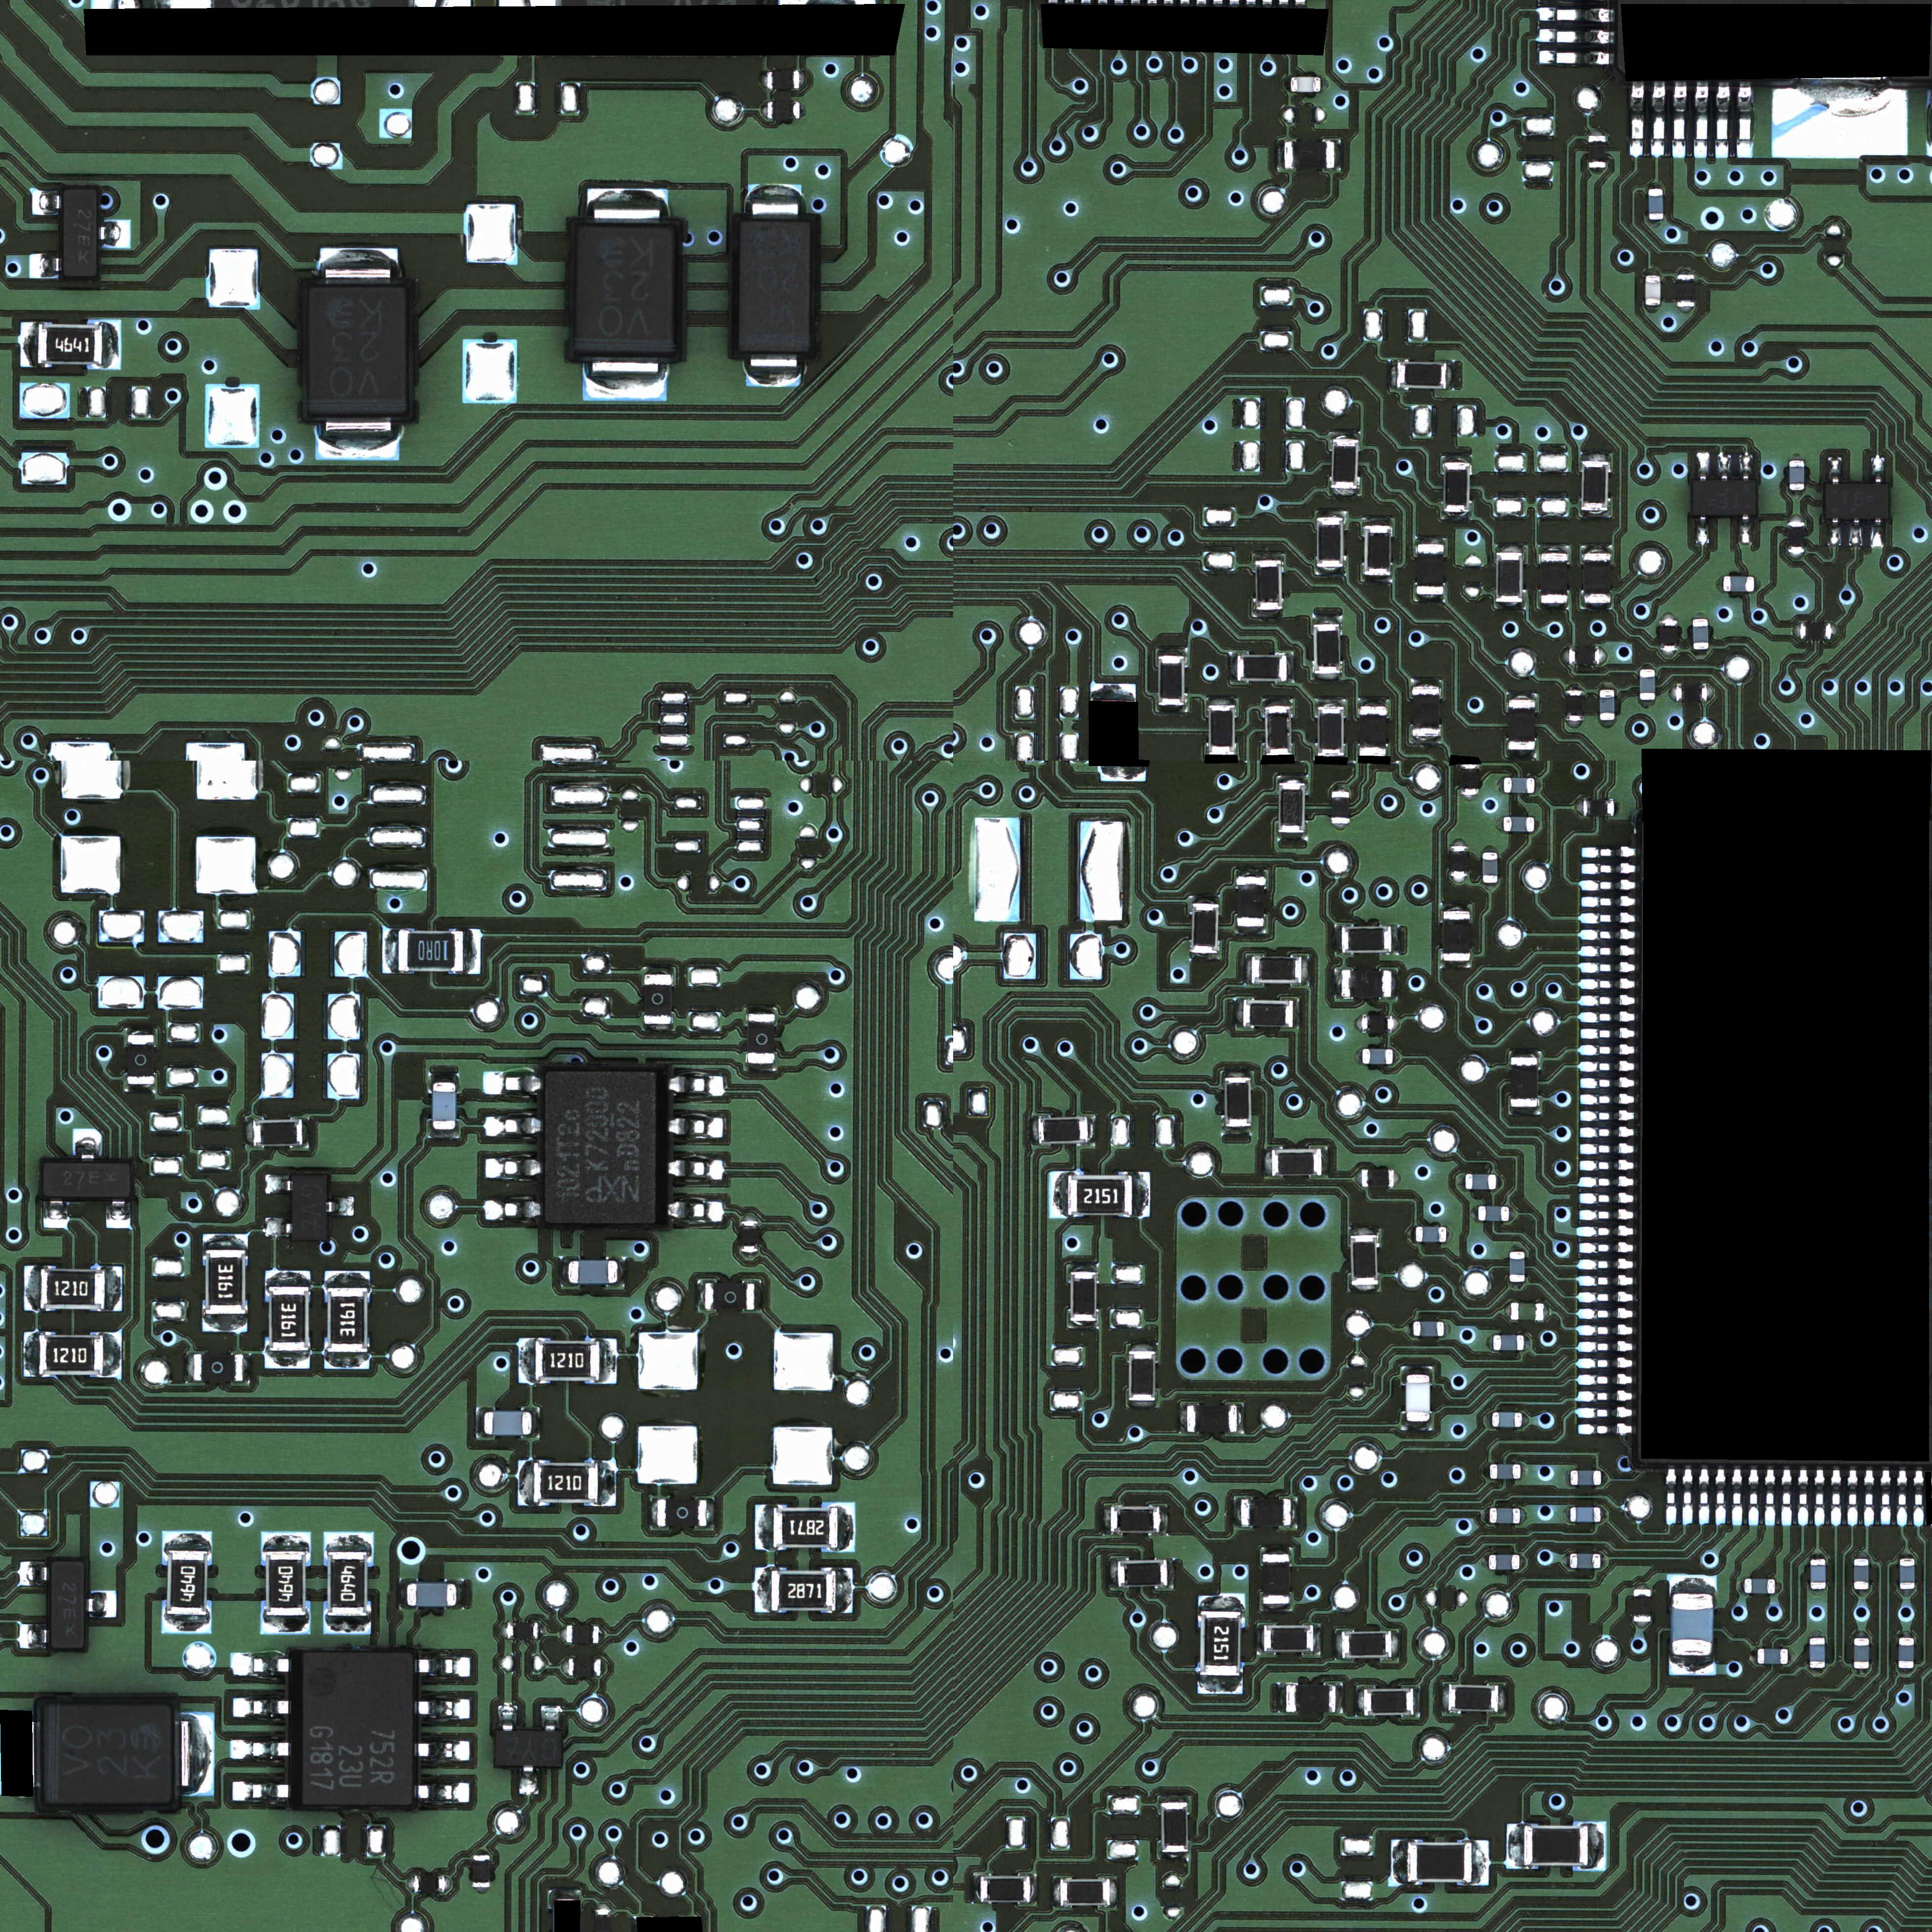Package: (301, 1652, 414, 1806), (545, 1070, 656, 1224), (306, 285, 409, 416), (41, 1704, 173, 1805), (575, 225, 676, 356), (738, 219, 810, 354), (41, 1161, 133, 1200), (60, 188, 99, 280), (48, 1560, 87, 1651), (166, 1550, 209, 1615), (536, 1339, 600, 1382), (534, 1461, 598, 1504), (1200, 1612, 1242, 1675), (398, 931, 464, 971), (1407, 1842, 1472, 1882), (771, 1569, 837, 1610), (41, 1269, 106, 1309), (1523, 1826, 1589, 1867), (39, 1334, 104, 1375), (37, 324, 103, 364), (205, 1249, 246, 1315), (327, 1288, 368, 1352), (1069, 1175, 1132, 1215), (773, 1507, 837, 1548), (265, 1552, 306, 1615), (269, 1286, 308, 1352), (329, 1552, 368, 1615), (1672, 1594, 1713, 1654), (494, 1730, 563, 1766), (1691, 479, 1757, 515), (1824, 483, 1890, 518), (292, 1173, 327, 1238), (1240, 1499, 1292, 1527), (747, 1014, 775, 1063), (1341, 970, 1391, 998), (644, 975, 672, 1024), (1412, 686, 1440, 736), (1286, 1684, 1336, 1713), (1539, 554, 1568, 603), (1442, 911, 1470, 961), (1279, 782, 1306, 833), (1509, 699, 1536, 750), (1237, 878, 1265, 925), (195, 1353, 242, 1382), (1060, 1879, 1109, 1905), (127, 1035, 154, 1085), (253, 1120, 303, 1146), (1511, 1058, 1537, 1108), (1444, 462, 1470, 511), (1284, 142, 1334, 168), (1129, 1352, 1155, 1401), (1263, 1553, 1290, 1603), (1332, 439, 1359, 488), (1187, 1405, 1237, 1431), (1251, 957, 1300, 984), (1417, 545, 1444, 594), (1361, 706, 1387, 755), (1583, 554, 1610, 603), (1364, 525, 1391, 575), (1208, 704, 1233, 755), (706, 1283, 754, 1309), (1582, 462, 1608, 510), (1343, 1631, 1391, 1658), (658, 1500, 706, 1527), (1039, 1118, 1088, 1143), (1224, 1077, 1249, 1127), (1449, 1686, 1499, 1711), (568, 1260, 617, 1284), (1162, 1803, 1187, 1852), (1272, 1150, 1322, 1175), (980, 1877, 1030, 1902), (1497, 552, 1522, 602), (1364, 1690, 1414, 1714), (1352, 1235, 1376, 1284), (1118, 1560, 1168, 1585), (1237, 656, 1286, 681), (1244, 1001, 1293, 1026), (1315, 625, 1339, 674), (1159, 656, 1184, 706), (1318, 706, 1343, 755), (1192, 904, 1217, 954), (1265, 1626, 1313, 1651), (1398, 363, 1445, 387), (1256, 561, 1281, 609), (1343, 927, 1391, 952), (1111, 1507, 1159, 1532), (1070, 1272, 1095, 1320), (1318, 518, 1343, 566), (407, 1583, 456, 1606), (1267, 706, 1290, 755), (1407, 1375, 1430, 1422), (433, 1083, 456, 1129), (485, 1412, 531, 1435), (1330, 791, 1350, 823), (472, 1854, 490, 1888), (1633, 1589, 1651, 1622), (766, 71, 800, 88), (1361, 1014, 1394, 1031), (1589, 136, 1606, 168), (566, 1626, 598, 1644), (1362, 1169, 1394, 1187), (568, 1658, 600, 1675), (1677, 274, 1695, 306), (1660, 619, 1677, 651), (1511, 1302, 1543, 1320), (414, 1875, 446, 1893), (768, 101, 800, 119), (1675, 683, 1707, 701), (1757, 1649, 1789, 1665), (1465, 1173, 1497, 1189), (741, 1221, 757, 1253), (1799, 623, 1831, 639), (1898, 1637, 1914, 1668), (1509, 1251, 1525, 1283), (1451, 846, 1467, 878), (1789, 522, 1805, 554), (506, 1622, 538, 1638), (1415, 1226, 1445, 1242), (1483, 853, 1499, 883), (1693, 619, 1709, 649), (1810, 1559, 1826, 1589), (1566, 690, 1582, 720), (1723, 577, 1753, 593), (1810, 1638, 1826, 1668), (1490, 1463, 1520, 1479), (1491, 1412, 1522, 1428), (1789, 460, 1805, 490), (1504, 777, 1534, 793), (1490, 1507, 1520, 1523), (1645, 276, 1661, 306), (1744, 1578, 1775, 1594), (1461, 764, 1477, 794), (1583, 800, 1614, 816), (1640, 669, 1654, 701), (1493, 1336, 1525, 1350), (1569, 1553, 1601, 1568), (1292, 76, 1320, 92), (1854, 1638, 1868, 1668), (1649, 189, 1663, 219), (1854, 1559, 1868, 1589), (1571, 1507, 1601, 1522), (1362, 1049, 1392, 1063), (1479, 1207, 1509, 1221), (1571, 1470, 1601, 1484), (1414, 1322, 1444, 1336), (1599, 690, 1614, 720), (1504, 817, 1534, 832), (1490, 1555, 1520, 1569), (1900, 1559, 1914, 1589)
Solder: (1773, 87, 1907, 159), (315, 416, 400, 460), (584, 356, 667, 400), (173, 1711, 214, 1796), (587, 188, 669, 225), (318, 248, 398, 285), (748, 184, 801, 219), (747, 356, 801, 386), (230, 1652, 288, 1677), (483, 1070, 541, 1095), (667, 1198, 724, 1223), (230, 1737, 288, 1760), (414, 1739, 471, 1762), (669, 1157, 725, 1180), (232, 1780, 288, 1803), (483, 1115, 540, 1138), (485, 1198, 541, 1221), (234, 1695, 288, 1718), (669, 1115, 724, 1138), (669, 1074, 724, 1097), (412, 1782, 469, 1803), (414, 1698, 471, 1720), (485, 1157, 541, 1178), (1537, 7, 1615, 21), (1537, 28, 1615, 42), (260, 1530, 311, 1552), (1539, 51, 1615, 65), (1651, 81, 1665, 157), (1672, 81, 1686, 157), (1695, 81, 1709, 157), (1737, 81, 1752, 157), (416, 1658, 471, 1677), (1629, 81, 1644, 156), (1716, 83, 1730, 157), (99, 218, 131, 249), (260, 1615, 311, 1635), (161, 1615, 212, 1635), (324, 1532, 375, 1552), (103, 318, 122, 370), (161, 1530, 212, 1550), (837, 1502, 856, 1553), (322, 1615, 372, 1635), (1668, 1656, 1716, 1675), (1047, 1171, 1067, 1219), (73, 1129, 103, 1159), (1198, 1675, 1242, 1695), (1589, 1822, 1606, 1870), (464, 929, 481, 975), (1132, 1171, 1150, 1217), (1472, 1840, 1490, 1886), (104, 1332, 122, 1378), (755, 1504, 773, 1550), (1670, 1575, 1716, 1592), (518, 1338, 536, 1384), (87, 1591, 117, 1617), (28, 253, 60, 278), (203, 1315, 248, 1332), (326, 1270, 370, 1288), (600, 1339, 617, 1384), (1092, 683, 1136, 701), (265, 1352, 310, 1369), (1506, 1824, 1523, 1868), (19, 322, 37, 366), (1099, 766, 1146, 782), (1198, 1594, 1246, 1610), (19, 1560, 48, 1587), (19, 1622, 48, 1649), (265, 1270, 311, 1286), (324, 1353, 370, 1369), (25, 1265, 41, 1311), (837, 1568, 853, 1614), (755, 1568, 771, 1614), (1746, 1467, 1759, 1525), (1780, 1467, 1792, 1525), (203, 1233, 248, 1249), (600, 1461, 616, 1506), (1391, 1840, 1407, 1884), (106, 1267, 122, 1311), (23, 1332, 39, 1376), (382, 929, 398, 973), (32, 189, 60, 214), (106, 1200, 131, 1228), (44, 1200, 67, 1228), (518, 1460, 533, 1506), (1665, 1465, 1675, 1525), (1681, 1465, 1691, 1525), (1698, 1465, 1709, 1525), (1714, 1465, 1725, 1525), (1730, 1467, 1741, 1525), (1764, 1467, 1775, 1525), (1798, 1467, 1808, 1525), (1813, 1467, 1824, 1525), (1831, 1467, 1842, 1525), (1847, 1467, 1858, 1525), (1863, 1468, 1874, 1527), (1879, 1468, 1890, 1527), (1897, 1468, 1907, 1527), (1913, 1468, 1923, 1527), (1576, 1407, 1635, 1417), (1576, 1375, 1635, 1385), (1576, 1309, 1635, 1320), (1576, 1325, 1635, 1336), (1576, 1341, 1635, 1352), (1576, 1292, 1635, 1302), (1578, 1276, 1637, 1286), (1578, 1210, 1637, 1221), (1578, 1127, 1637, 1138), (1578, 1077, 1637, 1088), (1578, 1093, 1637, 1104), (1578, 1143, 1637, 1154), (1578, 1177, 1637, 1187), (1580, 913, 1638, 924), (1580, 879, 1638, 890), (1580, 929, 1638, 939), (1580, 945, 1638, 955), (1580, 978, 1638, 989), (1580, 847, 1638, 858), (1578, 1260, 1635, 1270), (1578, 1161, 1635, 1171), (1582, 895, 1638, 906), (1580, 1028, 1637, 1039), (1582, 863, 1638, 874), (518, 1766, 538, 1796), (264, 1217, 292, 1237), (327, 1196, 354, 1215), (1576, 1424, 1635, 1433), (1576, 1392, 1635, 1401), (1576, 1359, 1635, 1368), (1578, 1244, 1637, 1253), (1578, 1046, 1637, 1054), (1578, 1062, 1637, 1070), (1578, 1111, 1637, 1120), (1580, 962, 1638, 971), (1580, 1012, 1638, 1021), (1578, 1194, 1635, 1203), (1578, 1226, 1635, 1235), (1580, 996, 1637, 1005), (265, 1175, 290, 1194), (541, 1706, 561, 1730), (1695, 517, 1711, 547), (1737, 515, 1753, 545), (499, 1704, 517, 1730), (1695, 453, 1711, 479), (1828, 456, 1842, 485), (1718, 453, 1732, 479), (1849, 520, 1863, 547), (1872, 455, 1884, 483), (1870, 520, 1882, 547), (1739, 453, 1752, 479), (1829, 518, 1842, 545), (550, 1888, 580, 1898), (430, 1129, 458, 1139), (430, 1072, 458, 1083), (1410, 678, 1442, 686), (1235, 925, 1267, 934), (1348, 1226, 1380, 1235), (1401, 1366, 1433, 1375), (1159, 1794, 1191, 1803), (697, 1281, 706, 1311), (754, 1281, 763, 1311), (1315, 566, 1345, 575), (1362, 575, 1392, 584), (1362, 517, 1392, 525), (1440, 511, 1470, 520), (1313, 616, 1343, 625), (1507, 690, 1537, 699), (1189, 895, 1219, 904), (1235, 998, 1244, 1028), (1401, 1422, 1431, 1431), (1109, 1559, 1118, 1589), (1102, 1504, 1111, 1534), (1069, 1320, 1099, 1329), (186, 1353, 195, 1382), (1334, 140, 1343, 168), (1412, 736, 1440, 745), (1286, 653, 1295, 681), (1391, 925, 1399, 954), (1030, 1116, 1039, 1145), (1256, 1626, 1265, 1654), (1261, 1545, 1290, 1553), (1159, 1506, 1168, 1534), (1109, 1879, 1118, 1907), (1070, 1263, 1099, 1272), (127, 1026, 154, 1035), (1445, 363, 1454, 389), (1582, 453, 1608, 462), (1263, 1150, 1272, 1177), (1391, 1631, 1399, 1658), (1129, 1343, 1155, 1352), (651, 1497, 658, 1529), (1253, 554, 1284, 561), (531, 1410, 540, 1435), (476, 1410, 485, 1435), (1389, 363, 1398, 387), (303, 1118, 310, 1148), (1330, 432, 1361, 439), (1330, 488, 1361, 495), (1316, 511, 1346, 518), (1415, 594, 1445, 602), (1157, 649, 1187, 656), (1253, 610, 1283, 617), (1440, 961, 1470, 968), (1237, 869, 1267, 876), (1189, 954, 1219, 961), (1300, 955, 1307, 985), (1244, 955, 1251, 985), (1293, 998, 1300, 1028), (1322, 1146, 1329, 1177), (1088, 1116, 1095, 1146), (1350, 1284, 1380, 1292), (1509, 1051, 1539, 1058), (1509, 1108, 1539, 1115), (1334, 1629, 1341, 1660), (1336, 1683, 1343, 1713), (1357, 1686, 1364, 1716), (1414, 1686, 1421, 1716), (1442, 1684, 1449, 1714), (1168, 1559, 1175, 1589), (973, 1874, 980, 1904), (1237, 1403, 1244, 1433), (244, 1353, 251, 1382), (706, 1499, 713, 1527), (747, 1063, 775, 1070), (747, 1007, 775, 1014), (644, 1024, 672, 1031), (644, 968, 672, 975), (126, 1085, 154, 1092), (1277, 142, 1284, 170), (1539, 603, 1568, 610), (1415, 536, 1444, 543), (1316, 699, 1345, 706), (1265, 699, 1293, 706), (1359, 699, 1387, 706), (1157, 706, 1185, 713), (1334, 925, 1341, 954), (1334, 970, 1341, 998), (1223, 1127, 1251, 1134), (1315, 1624, 1322, 1652), (1279, 1684, 1286, 1713), (1499, 1684, 1506, 1713), (1159, 1852, 1187, 1859), (1053, 1879, 1060, 1907), (1031, 1875, 1039, 1904), (1180, 1405, 1187, 1433), (561, 1260, 568, 1286), (1583, 547, 1610, 554), (1541, 547, 1568, 554), (1497, 602, 1523, 609), (1313, 674, 1339, 681), (1279, 833, 1306, 840), (1279, 775, 1306, 782), (1224, 1070, 1251, 1077), (1263, 1603, 1290, 1610), (1129, 1401, 1155, 1408), (617, 1260, 625, 1284), (246, 1120, 253, 1145), (1497, 545, 1522, 552), (1330, 823, 1350, 832), (456, 1583, 464, 1606), (400, 1582, 407, 1605), (1580, 511, 1610, 517), (1582, 603, 1612, 609), (1231, 653, 1237, 683), (1292, 1499, 1297, 1529), (1235, 1497, 1240, 1527), (1614, 800, 1622, 817), (1575, 800, 1583, 817), (1442, 456, 1470, 462), (1392, 970, 1398, 998), (1320, 76, 1329, 92), (1283, 76, 1292, 92), (1753, 577, 1762, 593), (1599, 720, 1615, 729), (1208, 699, 1235, 704), (1444, 906, 1470, 911), (1562, 1507, 1571, 1523), (1562, 1468, 1571, 1484), (1330, 784, 1350, 791), (800, 101, 807, 119), (740, 1214, 757, 1221), (472, 1888, 490, 1895), (1677, 306, 1695, 313), (1649, 219, 1663, 228), (1589, 168, 1606, 175), (1790, 490, 1805, 499), (1787, 552, 1805, 559), (1660, 651, 1677, 658), (1668, 683, 1675, 701), (1638, 701, 1656, 708), (1566, 722, 1583, 729), (1353, 1169, 1361, 1187), (1394, 1169, 1401, 1187), (1810, 1629, 1824, 1638), (1854, 1629, 1868, 1638), (741, 1253, 757, 1260), (538, 1622, 545, 1638), (499, 1622, 506, 1638), (559, 1626, 566, 1642), (598, 1626, 605, 1642), (561, 1660, 568, 1675), (407, 1875, 414, 1891), (1645, 269, 1661, 276), (1677, 267, 1693, 274), (1647, 182, 1663, 189), (1589, 129, 1605, 136), (1789, 453, 1805, 460), (1789, 515, 1805, 522), (1792, 623, 1799, 639), (1831, 623, 1838, 639), (1691, 649, 1707, 656), (1691, 612, 1707, 619), (1661, 612, 1677, 619), (1707, 685, 1714, 701), (1599, 683, 1615, 690), (1566, 683, 1582, 690), (1497, 777, 1504, 793), (1483, 883, 1499, 890), (1461, 794, 1477, 801), (1353, 1016, 1361, 1031), (1392, 1049, 1399, 1065), (1445, 1226, 1453, 1242), (1458, 1173, 1465, 1189), (1470, 1205, 1477, 1221), (1509, 1244, 1525, 1251), (1509, 1283, 1525, 1290), (1504, 1304, 1511, 1320), (1543, 1304, 1550, 1320), (1486, 1334, 1493, 1350), (1522, 1412, 1529, 1428), (1483, 1463, 1490, 1479), (1520, 1507, 1527, 1523), (1483, 1507, 1490, 1523), (1601, 1507, 1608, 1523), (1601, 1553, 1608, 1569), (1562, 1553, 1569, 1569), (1810, 1589, 1826, 1596), (1645, 306, 1660, 313), (1716, 577, 1723, 591), (1497, 817, 1504, 832), (1534, 817, 1541, 832), (1453, 839, 1467, 846), (1355, 1049, 1362, 1063), (1509, 1207, 1516, 1221), (1444, 1322, 1451, 1336), (1407, 1322, 1414, 1336), (1601, 1470, 1608, 1484), (1520, 1555, 1527, 1569), (1789, 1649, 1796, 1663), (1750, 1649, 1757, 1663), (1854, 1668, 1868, 1675), (1854, 1589, 1868, 1596), (1854, 1552, 1868, 1559), (1900, 1552, 1914, 1559), (1900, 1589, 1914, 1596), (1775, 1580, 1782, 1592), (1737, 1580, 1744, 1592), (761, 73, 766, 88), (800, 73, 805, 88), (761, 103, 766, 119), (602, 1660, 607, 1675), (474, 1849, 490, 1854), (446, 1875, 451, 1891), (1536, 777, 1541, 793), (1451, 878, 1467, 883), (1394, 1016, 1399, 1031), (1410, 1226, 1415, 1242), (1497, 1173, 1502, 1189), (1486, 1412, 1491, 1428), (1520, 1463, 1525, 1479), (1483, 1553, 1488, 1569), (1810, 1553, 1826, 1559), (1635, 1583, 1651, 1589), (1635, 1622, 1651, 1628), (1810, 1668, 1826, 1674), (1898, 1668, 1914, 1674), (1898, 1631, 1914, 1637), (1640, 663, 1654, 669), (1483, 846, 1497, 851), (1525, 1336, 1530, 1350), (1461, 761, 1477, 764)
